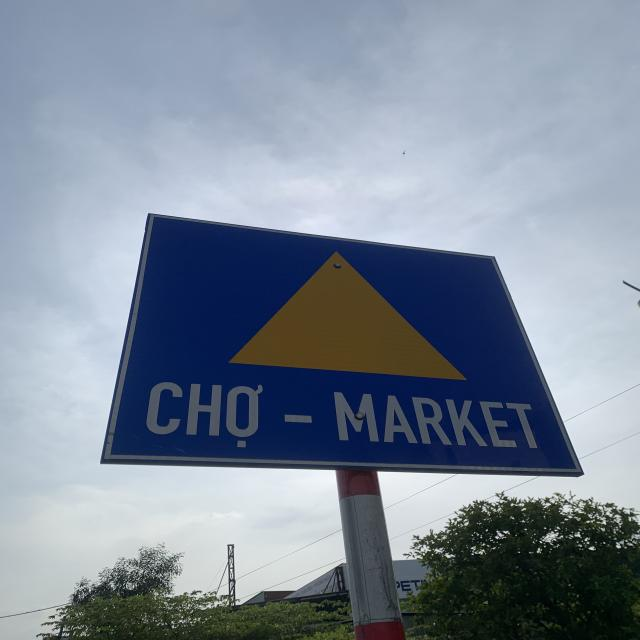Cho_Quay_Xe: (100, 212, 581, 472)
